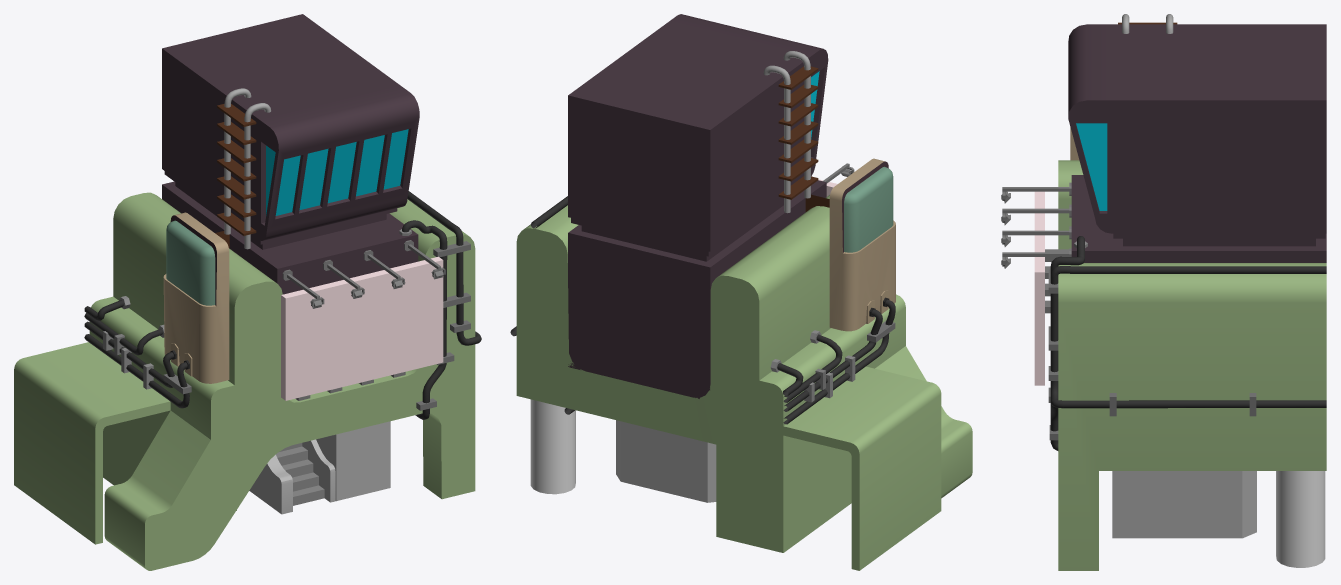
The model's file is Slum house 1.fbx.
3 views of the same model, side by side, from view 1: azimuth 30°, elevation 25°; view 2: azimuth 150°, elevation 25°; view 3: azimuth 270°, elevation 25° (orthographic). The views are drawn at different scales.
Visible parts, largest first — view 1: Base House, Top Block, Billboard, Room Block, Battery Pack, Stair Walls Filler, Ladder Steps, Stair walls, Ladder Bars, Stairs, Cable 6, Cable 5 (+4 smaller); view 2: Base House, Top Block, Room Block, Battery Pack, Stair Walls Back, Back Pillar, Ladder Steps, Ladder Bars, Cable 1, Cable 2, Cable 3; view 3: Base House, Top Block, Room Block, Cable 6, Stair Walls Filler, Back Pillar, Stair Walls Back, Billboard, Light Poles, Cable 5.
Part boxes in pixels (x1,y1,x2,y2): Base House: (14, 192, 475, 570); Top Block: (162, 14, 419, 240); Billboard: (281, 256, 443, 400); Room Block: (162, 171, 418, 294); Battery Pack: (163, 212, 229, 383); Stair Walls Filler: (316, 421, 390, 501); Ladder Steps: (217, 104, 256, 235); Stair walls: (249, 439, 335, 514); Ladder Bars: (224, 88, 271, 249); Stairs: (276, 443, 324, 505); Cable 6: (407, 191, 481, 345); Cable 5: (402, 220, 447, 419); Base House: (516, 195, 972, 570); Top Block: (568, 14, 828, 251); Room Block: (568, 180, 826, 398); Battery Pack: (829, 158, 895, 331); Stair Walls Back: (616, 420, 716, 502); Back Pillar: (530, 399, 575, 494); Ladder Steps: (778, 66, 818, 199); Ladder Bars: (763, 51, 810, 213); Cable 1: (783, 299, 895, 424); Cable 2: (783, 309, 882, 411); Cable 3: (783, 334, 842, 402); Base House: (1058, 160, 1326, 570); Top Block: (1068, 24, 1326, 233); Room Block: (1071, 175, 1326, 262); Cable 6: (1050, 266, 1326, 408); Stair Walls Filler: (1112, 471, 1186, 538); Back Pillar: (1276, 471, 1325, 567); Stair Walls Back: (1187, 471, 1256, 538); Billboard: (1034, 191, 1044, 385); Light Poles: (1002, 187, 1069, 256); Cable 5: (1050, 236, 1084, 450).
Bounding box in the file's own units: 1202 × 1359 × 882.
